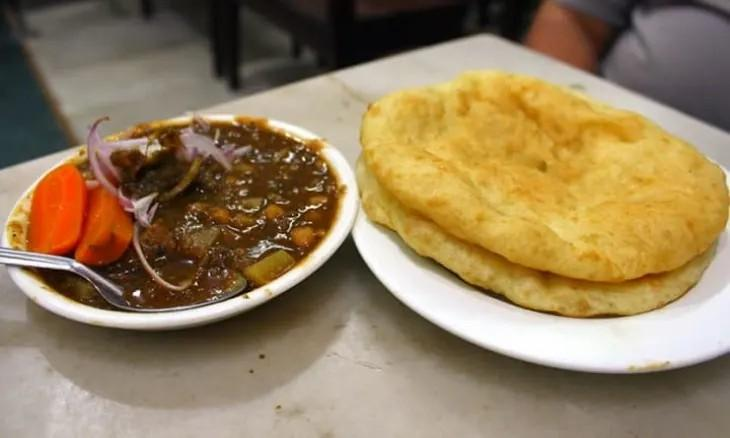Bhatura: (359, 69, 730, 283), (357, 149, 719, 316)
Chole: (44, 117, 339, 313)
